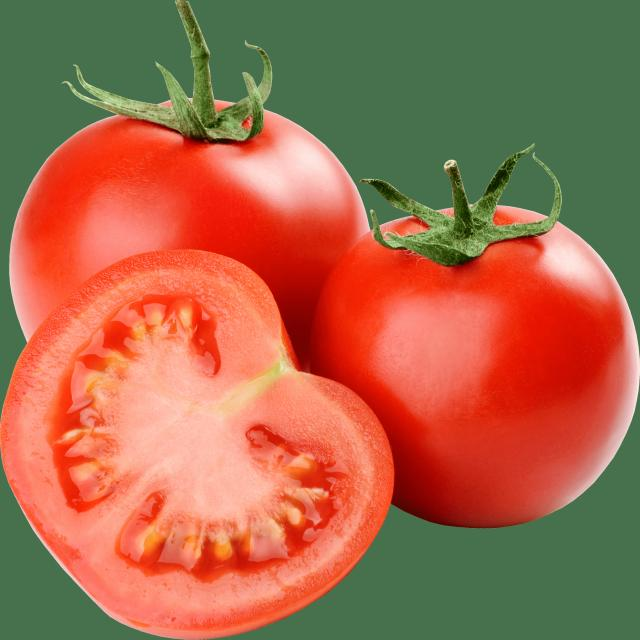tomato: (11, 0, 347, 346), (320, 176, 630, 539)
